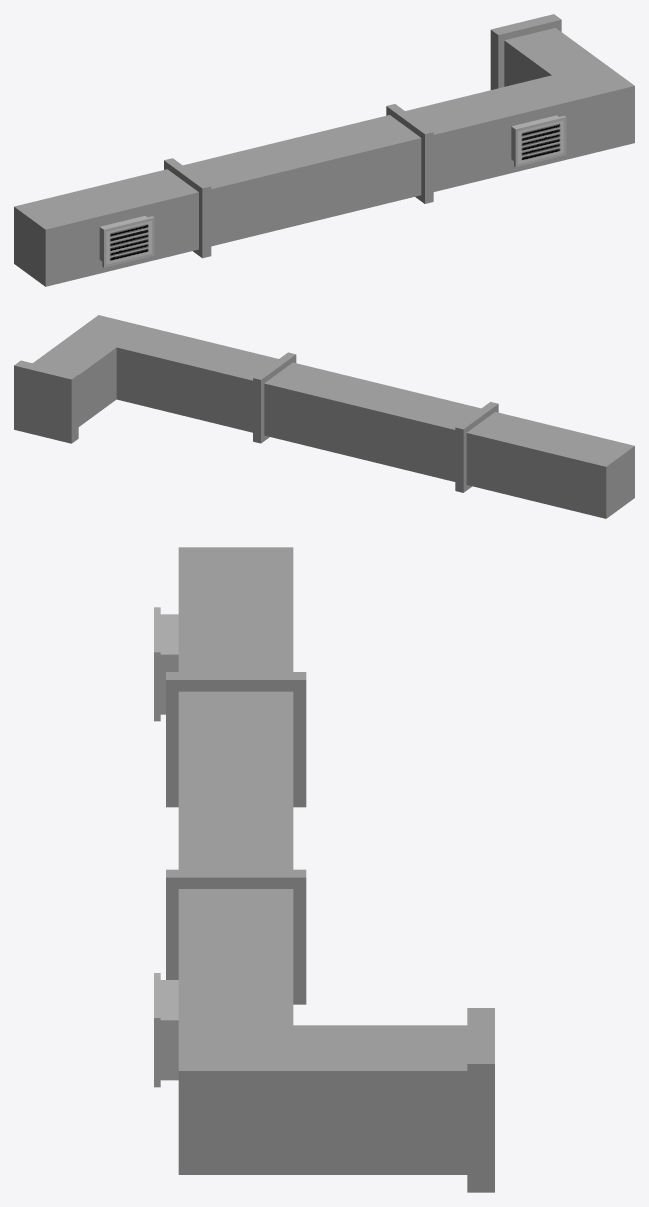
Rendered from conduit.fbx.
The picture shows the model from 3 angles, top to bottom: view 1: azimuth 30°, elevation 25°; view 2: azimuth 150°, elevation 25°; view 3: azimuth 270°, elevation 25°; orthographic projection. The views are drawn at different scales.
Parts seen in each view (by area): view 1: conduit; view 2: conduit; view 3: conduit.
Part boxes in pixels (x1=…): conduit: x1=14, y1=14, x2=634, y2=286; conduit: x1=14, y1=315, x2=634, y2=518; conduit: x1=154, y1=547, x2=494, y2=1192.
Bounding box in the file's own units: 5.61 × 0.6356 × 1.53.
3 materials, 1 textured.
